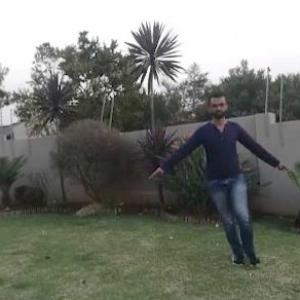land: (149, 94, 276, 250)
